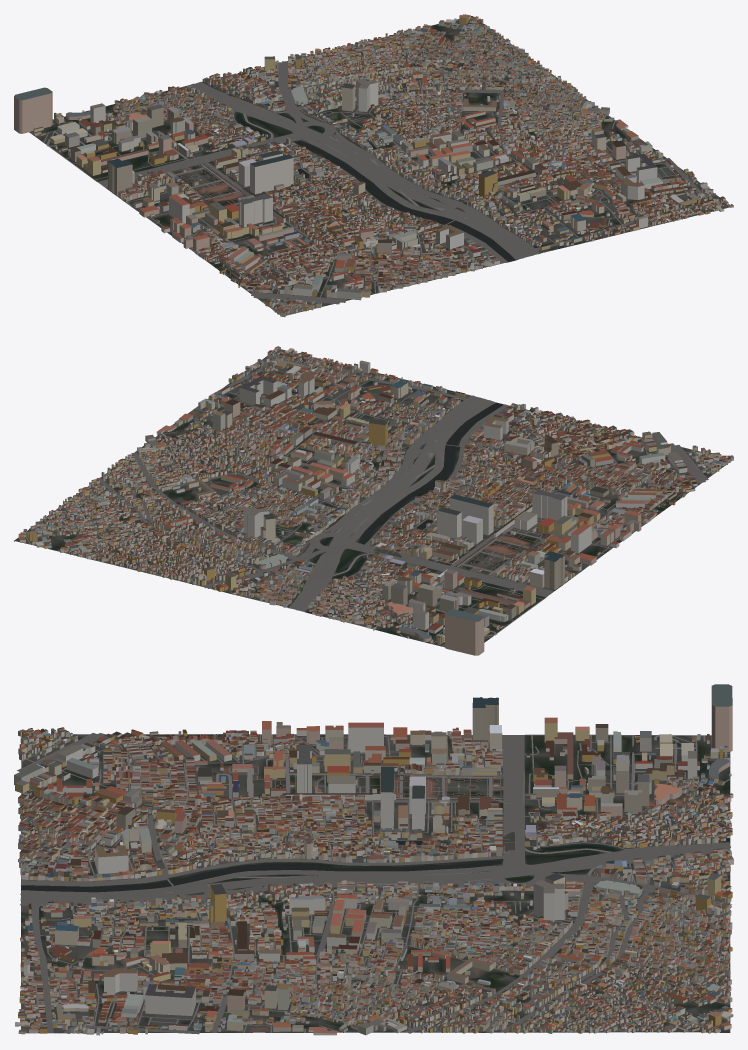
3 renders of one model, top to bottom at view 1: azimuth 30°, elevation 25°; view 2: azimuth 150°, elevation 25°; view 3: azimuth 270°, elevation 25°, orthographic. The views are drawn at different scales.
Parts seen in each view (by area): view 1: buildings, ground, roads, water; view 2: buildings, ground, roads, water; view 3: buildings, ground, roads, water.
Boxes of the visible parts, x1,y1,x2,y2 form: buildings: [14, 14, 733, 317]; ground: [29, 16, 730, 315]; roads: [31, 19, 729, 315]; water: [140, 76, 562, 261]; buildings: [18, 346, 733, 655]; ground: [14, 349, 731, 647]; roads: [25, 349, 721, 646]; water: [106, 402, 503, 613]; buildings: [14, 684, 733, 1035]; ground: [21, 734, 730, 1033]; roads: [17, 733, 731, 1034]; water: [21, 770, 729, 1032].
Size of the model in its own units: 1439 by 102 by 1423.
